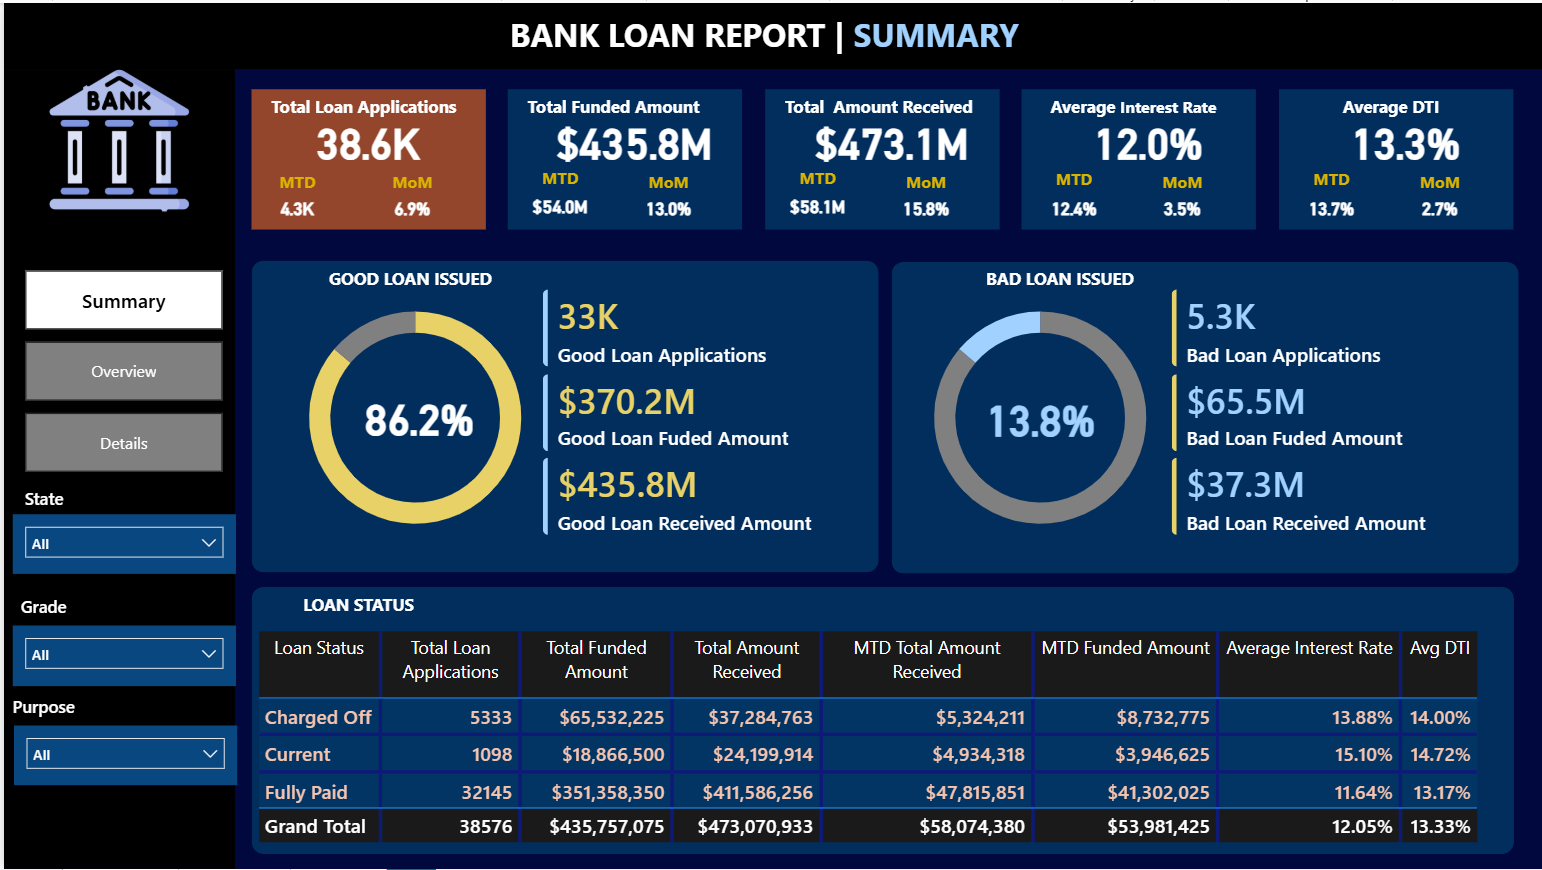

The page's visual inventory and layout, read from the dashboard file:
{"tool":"powerbi","page":{"name":"Summary","canvas":[1280,720],"ordinal":0},"visuals":[{"type":"shape","box":[205.8,71.4,194.9,116.6],"z":0,"group":"g1"},{"type":"shape","box":[419.2,71.4,194.9,116.6],"z":0,"group":"g2"},{"type":"shape","box":[632.6,71.4,194.9,116.6],"z":0,"group":"g3"},{"type":"shape","box":[846,71.9,194.9,116.6],"z":0,"group":"g4"},{"type":"shape","box":[1060.1,71.9,194.9,116.6],"z":0,"group":"g5"},{"type":"shape","box":[205.8,485.8,1049.7,222.3],"z":0},{"type":"textbox","box":[216.8,71.4,223.7,32.9],"z":1000,"group":"g1"},{"type":"textbox","box":[430.2,71.4,223.7,32.9],"z":1000,"group":"g2"},{"type":"textbox","box":[643.6,71.4,223.7,32.9],"z":1000,"group":"g3"},{"type":"textbox","box":[827.4,71.4,223.7,32.9],"z":1000,"group":"g4"},{"type":"textbox","box":[1041.5,71.4,223.7,32.9],"z":1000,"group":"g5"},{"type":"shape","box":[205.8,214.1,521.4,259.3],"z":1000},{"type":"shape","box":[0,0,1280.3,55],"z":2000},{"type":"card","fields":{"Values":["bank_loan_data.Total Funded Amount"]},"box":[450.1,77.3,148.2,72.7],"z":2000,"group":"g2"},{"type":"card","fields":{"Values":["bank_loan_data.Total Amount Received"]},"box":[663.5,77.3,148.2,72.7],"z":2000,"group":"g3"},{"type":"card","fields":{"Values":["bank_loan_data.Average Interest Rate"]},"box":[876.9,77.8,148.2,72.7],"z":2000,"group":"g4"},{"type":"card","fields":{"Values":["bank_loan_data.Avg DTI"]},"box":[1091,77.8,148.2,72.7],"z":2000,"group":"g5"},{"type":"card","fields":{"Values":["bank_loan_data.Total Loan Applications"]},"box":[238.7,78.3,127.6,71.4],"z":2000,"group":"g1"},{"type":"shape","box":[0,54.9,192,665],"z":3000},{"type":"card","title":"MTD","fields":{"Values":["bank_loan_data.MTD Funded Amount"]},"box":[435,136.3,56.3,52.1],"z":3000,"group":"g2"},{"type":"card","title":"MTD","fields":{"Values":["bank_loan_data.MTD Total Amount Received"]},"box":[648.4,136.3,56.3,52.1],"z":3000,"group":"g3"},{"type":"card","title":"MTD","fields":{"Values":["bank_loan_data.MTD AVG Interest Rate"]},"box":[861.8,136.8,56.3,52.1],"z":3000,"group":"g4"},{"type":"card","title":"MTD","fields":{"Values":["bank_loan_data.MTD AVG DTI"]},"box":[1075.9,136.8,56.3,52.1],"z":3000,"group":"g5"},{"type":"card","title":"MTD","fields":{"Values":["bank_loan_data.MTD Loan Applications"]},"box":[216.8,138.6,53.5,49.4],"z":3000,"group":"g1"},{"type":"textbox","box":[415.8,2.7,447.3,52.1],"z":4000},{"type":"card","title":"MoM","fields":{"Values":["bank_loan_data.MoM Loan Appliications"]},"box":[312.8,138.6,53.5,49.4],"z":4000,"group":"g1"},{"type":"card","title":"MoM","fields":{"Values":["bank_loan_data.MoM Total Funded Amount"]},"box":[526.2,138.6,53.5,49.4],"z":4000,"group":"g2"},{"type":"card","title":"MoM","fields":{"Values":["bank_loan_data.MoM Total Amount Received"]},"box":[739.6,138.6,53.5,49.4],"z":4000,"group":"g3"},{"type":"card","title":"MoM","fields":{"Values":["bank_loan_data.MoM Avg Interest Rate"]},"box":[953,139.1,53.5,49.4],"z":4000,"group":"g4"},{"type":"card","title":"MoM","fields":{"Values":["bank_loan_data.MoM Avg DTI"]},"box":[1167.1,139.1,53.5,49.4],"z":4000,"group":"g5"},{"type":"card","fields":{"Values":["bank_loan_data.Good Loan %"]},"box":[271.7,307.4,148.2,72.7],"z":5000},{"type":"group","id":"g1","title":"Group 1","box":[205.8,71.4,234.6,116.6],"z":6000},{"type":"group","id":"g2","title":"Group 1","box":[419.2,71.4,234.6,116.6],"z":7000},{"type":"group","id":"g3","title":"Group 1","box":[632.6,71.4,234.6,116.6],"z":8000},{"type":"group","id":"g4","title":"Group 1","box":[827.4,71.4,223.7,116.6],"z":9000},{"type":"shape","box":[738.3,215.4,521.4,259.3],"z":10000},{"type":"group","id":"g5","title":"Group 1","box":[1041.5,71.4,223.7,118],"z":11000},{"type":"donutChart","fields":{"Category":["bank_loan_data.Good vs Bad Loan"],"Y":["bank_loan_data.Total Loan Applications"]},"box":[216.8,229.2,249.7,230.5],"z":12000},{"type":"textbox","box":[185.2,214.1,306,49.4],"z":13000},{"type":"cardVisual","fields":{"Data":["bank_loan_data.Good Loan Applications","bank_loan_data.Good Loan Fuded Amount","bank_loan_data.Good Loan Received Amount"]},"box":[430.9,220.9,279.9,238.8],"z":14000},{"type":"textbox","box":[750.6,214.1,255.2,34.3],"z":15000},{"type":"donutChart","fields":{"Category":["bank_loan_data.Good vs Bad Loan"],"Y":["bank_loan_data.Total Loan Applications"]},"box":[736.9,229.2,249.7,230.5],"z":16000},{"type":"card","fields":{"Values":["bank_loan_data.Bad Loan %"]},"box":[787.7,308.7,148.2,72.7],"z":17000},{"type":"cardVisual","fields":{"Data":["bank_loan_data.Bad Loan Applications","bank_loan_data.Bad Loan Fuded Amount","bank_loan_data.Bad Loan Received Amount"]},"box":[953.7,220.9,279.9,238.8],"z":18000},{"type":"tableEx","fields":{"Values":["bank_loan_data.loan_status","bank_loan_data.Total Loan Applications","bank_loan_data.Total Funded Amount","bank_loan_data.Total Amount Received","bank_loan_data.MTD Total Amount Received","bank_loan_data.MTD Funded Amount","bank_loan_data.Average Interest Rate","bank_loan_data.Avg DTI"]},"box":[205.8,517.3,1038.8,190.7],"z":19000},{"type":"textbox","box":[159.2,485.8,271.7,45.3],"z":20000},{"type":"slicer","fields":{"Values":["bank_loan_data.address_state"]},"box":[6.9,425.4,185.2,49.4],"z":21000},{"type":"textbox","box":[6.9,396.6,52.1,30.2],"z":22000},{"type":"slicer","fields":{"Values":["bank_loan_data.grade"]},"box":[6.9,517.3,185.2,50.8],"z":23000},{"type":"slicer","fields":{"Values":["bank_loan_data.purpose"]},"box":[8.2,601,185.2,49.4],"z":24000},{"type":"textbox","box":[0,487.1,65.9,30.2],"z":25000},{"type":"textbox","box":[0,570.8,65.9,30.2],"z":26000},{"type":"image","box":[27.4,52.1,137.2,123.5],"z":26001},{"type":"pageNavigator","box":[17.8,222.3,164.7,168.8],"z":26002}]}

Visuals, with their boxes in screenshot pixels (x1, y1, x2, y2), scaled from the page's 1280x720 canvas onto the 1542x870 screenshot:
shape: bbox(248, 86, 483, 227)
shape: bbox(505, 86, 740, 227)
shape: bbox(762, 86, 997, 227)
shape: bbox(1019, 87, 1254, 228)
shape: bbox(1277, 87, 1512, 228)
shape: bbox(248, 587, 1512, 856)
textbox: bbox(261, 86, 531, 126)
textbox: bbox(518, 86, 788, 126)
textbox: bbox(775, 86, 1045, 126)
textbox: bbox(997, 86, 1266, 126)
textbox: bbox(1255, 86, 1524, 126)
shape: bbox(248, 259, 876, 572)
shape: bbox(0, 0, 1541, 66)
card - bank_loan_data.Total Funded Amount: bbox(542, 93, 721, 181)
card - bank_loan_data.Total Amount Received: bbox(799, 93, 978, 181)
card - bank_loan_data.Average Interest Rate: bbox(1056, 94, 1235, 182)
card - bank_loan_data.Avg DTI: bbox(1314, 94, 1493, 182)
card - bank_loan_data.Total Loan Applications: bbox(288, 95, 441, 181)
shape: bbox(0, 66, 231, 869)
"MTD" card: bbox(524, 165, 592, 228)
"MTD" card: bbox(781, 165, 849, 228)
"MTD" card: bbox(1038, 165, 1106, 228)
"MTD" card: bbox(1296, 165, 1364, 228)
"MTD" card: bbox(261, 167, 326, 227)
textbox: bbox(501, 3, 1040, 66)
"MoM" card: bbox(377, 167, 441, 227)
"MoM" card: bbox(634, 167, 698, 227)
"MoM" card: bbox(891, 167, 955, 227)
"MoM" card: bbox(1148, 168, 1213, 228)
"MoM" card: bbox(1406, 168, 1470, 228)
card - bank_loan_data.Good Loan %: bbox(327, 371, 506, 459)
"Group 1" group: bbox(248, 86, 531, 227)
"Group 1" group: bbox(505, 86, 788, 227)
"Group 1" group: bbox(762, 86, 1045, 227)
"Group 1" group: bbox(997, 86, 1266, 227)
shape: bbox(889, 260, 1518, 574)
"Group 1" group: bbox(1255, 86, 1524, 229)
donutChart - bank_loan_data.Good vs Bad Loan x bank_loan_data.Total Loan Applications: bbox(261, 277, 562, 555)
textbox: bbox(223, 259, 592, 318)
cardVisual - bank_loan_data.Good Loan Applications x bank_loan_data.Good Loan Fuded Amount: bbox(519, 267, 856, 555)
textbox: bbox(904, 259, 1212, 300)
donutChart - bank_loan_data.Good vs Bad Loan x bank_loan_data.Total Loan Applications: bbox(888, 277, 1189, 555)
card - bank_loan_data.Bad Loan %: bbox(949, 373, 1127, 461)
cardVisual - bank_loan_data.Bad Loan Applications x bank_loan_data.Bad Loan Fuded Amount: bbox(1149, 267, 1486, 555)
tableEx - bank_loan_data.loan_status x bank_loan_data.Total Loan Applications: bbox(248, 625, 1499, 856)
textbox: bbox(192, 587, 519, 642)
slicer - bank_loan_data.address_state: bbox(8, 514, 231, 574)
textbox: bbox(8, 479, 71, 516)
slicer - bank_loan_data.grade: bbox(8, 625, 231, 686)
slicer - bank_loan_data.purpose: bbox(10, 726, 233, 786)
textbox: bbox(0, 589, 79, 625)
textbox: bbox(0, 690, 79, 726)
image: bbox(33, 63, 198, 212)
pageNavigator: bbox(21, 269, 220, 473)
